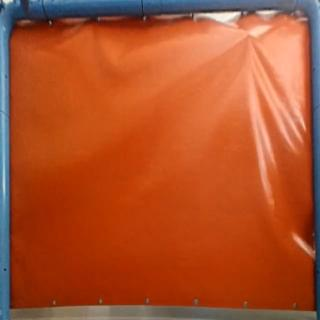Hit-hRxx: (242, 24, 257, 42)
